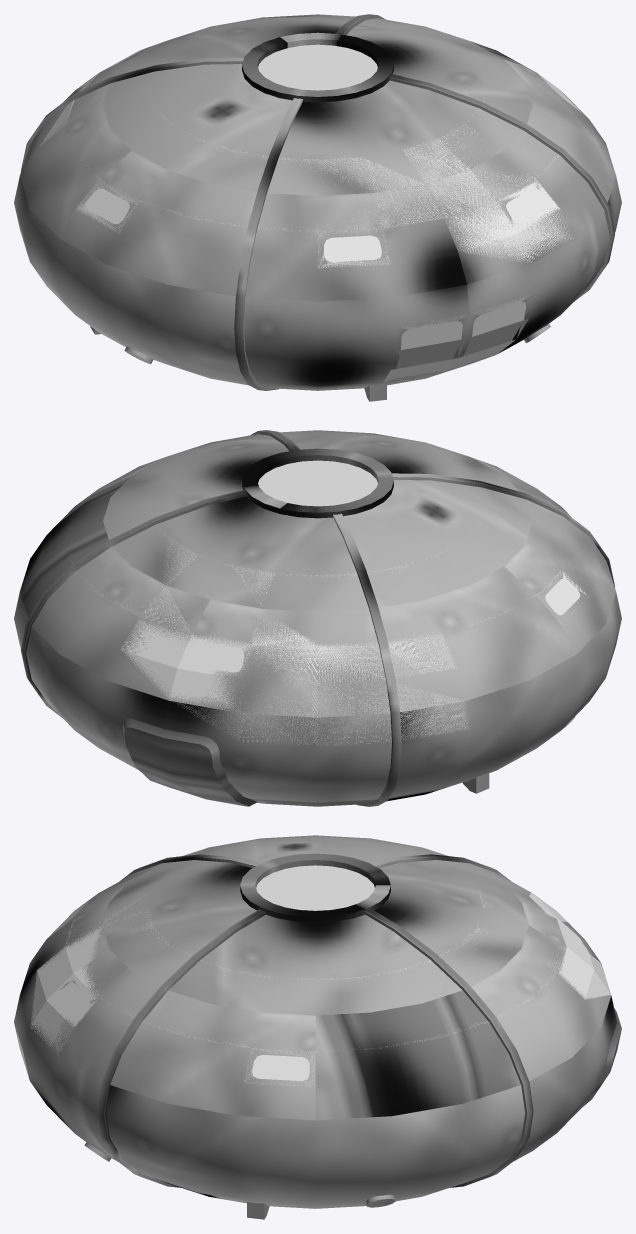
File: mesbin_lander.fbx
The picture shows the model from 3 angles, top to bottom: view 1: azimuth 30°, elevation 25°; view 2: azimuth 150°, elevation 25°; view 3: azimuth 270°, elevation 25°; orthographic projection.
Visible parts, largest first — view 1: mesh, mesh_shape; view 2: mesh, mesh_shape; view 3: mesh, mesh_shape.
Boxes of the visible parts, x1,y1,x2,y2 form: mesh: (14, 14, 621, 401); mesh_shape: (39, 44, 579, 381); mesh: (14, 430, 621, 806); mesh_shape: (69, 441, 588, 746); mesh: (14, 835, 621, 1219); mesh_shape: (15, 865, 610, 1087).
Size of the model in its own units: 2.5 by 1.25 by 2.52.
